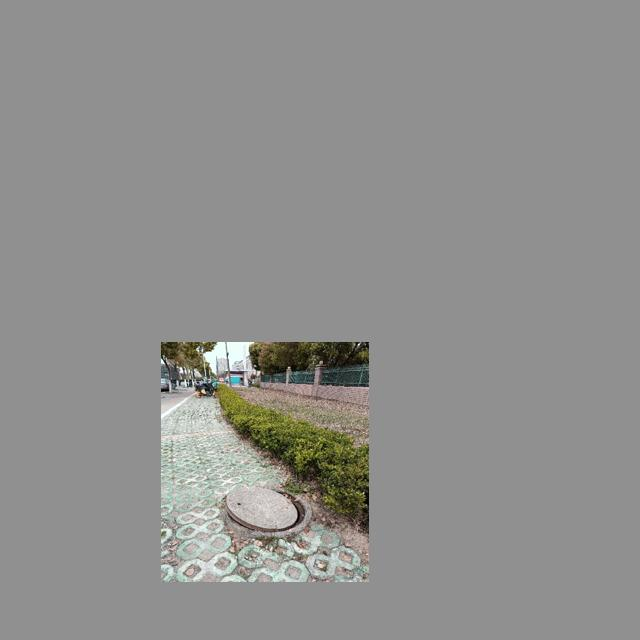uncovered: (222, 485, 313, 536)
